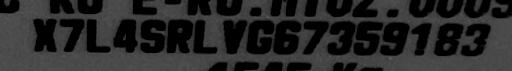letter: (460, 21, 492, 56), (271, 20, 301, 55), (28, 16, 56, 53), (84, 18, 112, 55), (192, 19, 220, 56), (381, 21, 409, 56), (58, 16, 84, 53), (221, 18, 247, 55), (248, 18, 274, 55), (140, 16, 164, 55), (353, 21, 379, 56), (433, 21, 459, 56), (326, 21, 354, 52), (300, 20, 326, 53), (408, 22, 434, 55), (168, 18, 192, 53), (114, 19, 136, 54)
